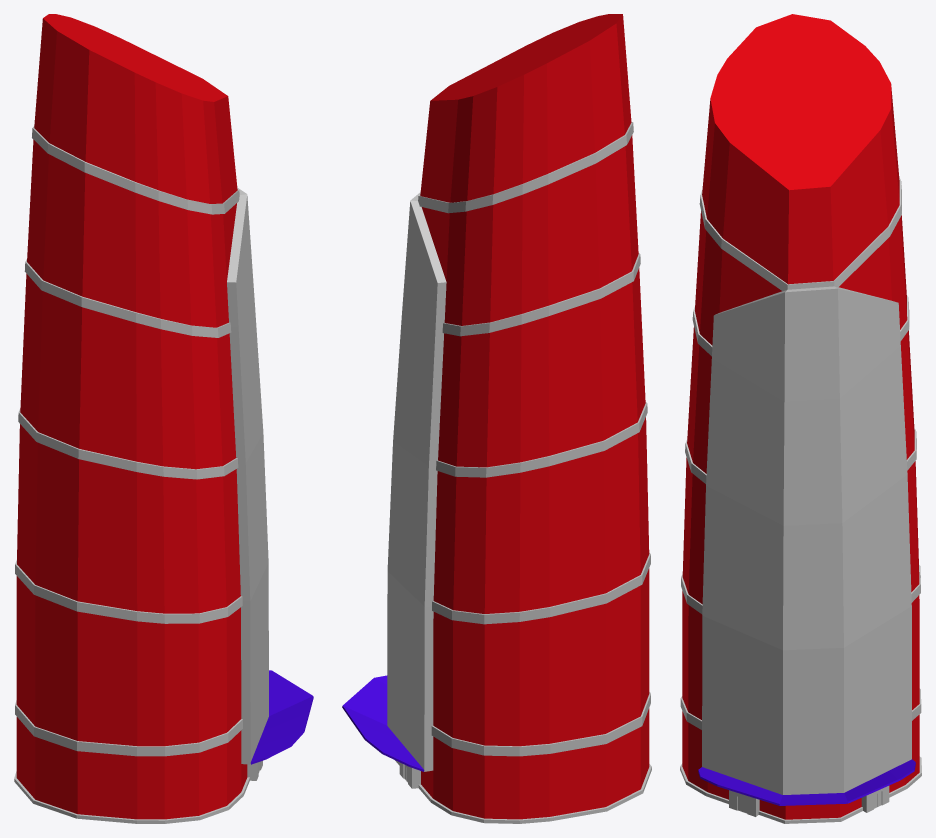
Rendered from SM_skyscraper_01.gltf.
The picture shows the model from 3 angles, left to right: view 1: azimuth 30°, elevation 25°; view 2: azimuth 150°, elevation 25°; view 3: azimuth 270°, elevation 25°; orthographic projection. The views are drawn at different scales.
Parts seen in each view (by area): view 1: skyscraper_01; view 2: skyscraper_01; view 3: skyscraper_01.
Part boxes in pixels (x1,y1,x2,y2): skyscraper_01: [14, 14, 313, 823]; skyscraper_01: [342, 14, 651, 823]; skyscraper_01: [680, 14, 921, 823].
Size of the model in its own units: 32 by 85.12 by 26.
